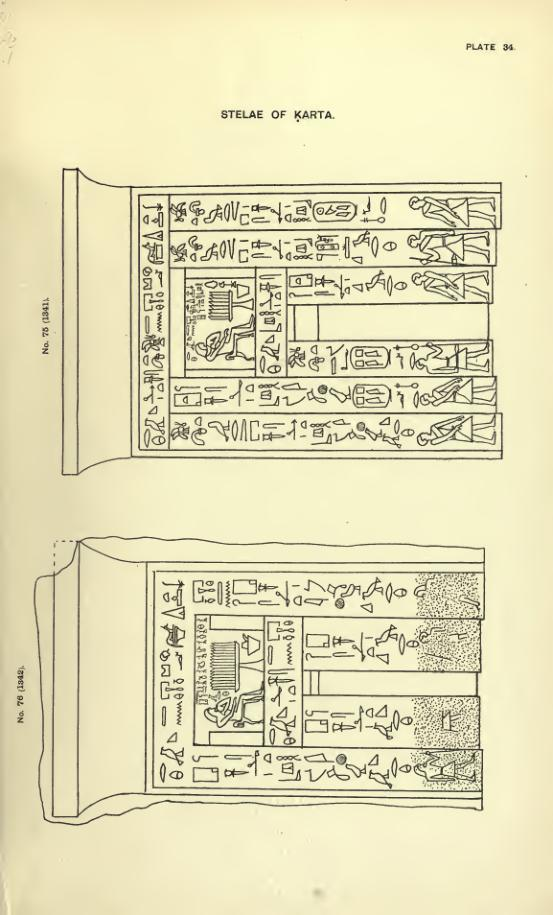circle: (312, 198, 360, 224), (349, 344, 395, 371), (351, 382, 393, 409)
